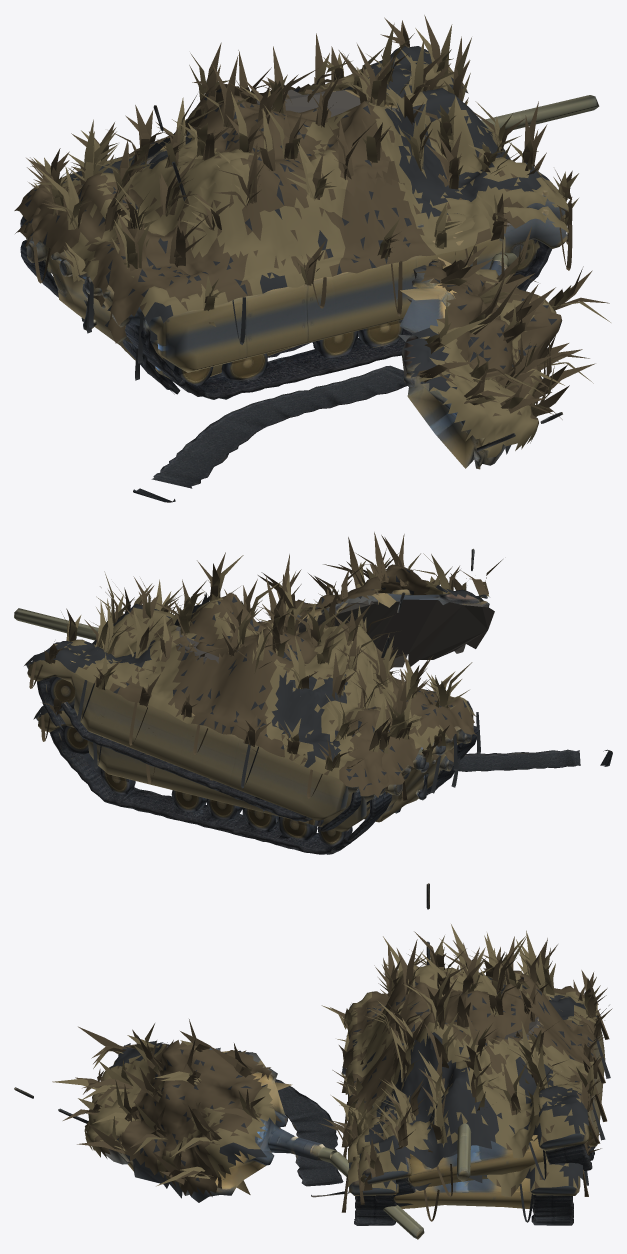
File: mbt_lavi_camo.glb
3 renders of one model, top to bottom at view 1: azimuth 30°, elevation 25°; view 2: azimuth 150°, elevation 25°; view 3: azimuth 270°, elevation 25°, orthographic. The views are drawn at different scales.
Parts seen in each view (by area): view 1: hull_hull, WRECK_hull_hull, WRECK_turret_hull, turret_hull, WRECK_hull_rubber, hull_rubber, turret_metal; view 2: WRECK_hull_hull, hull_hull, WRECK_turret_hull, turret_hull, hull_rubber, WRECK_hull_rubber, turret_metal; view 3: WRECK_hull_hull, WRECK_turret_hull, hull_hull, turret_hull, WRECK_hull_rubber, WRECK_turret_metal, turret_metal, hull_rubber.
Part boxes in pixels (x1,y1,x2,y2): hull_hull: [15, 64, 578, 383]; WRECK_hull_hull: [14, 15, 578, 394]; WRECK_turret_hull: [398, 226, 610, 469]; turret_hull: [108, 44, 399, 204]; WRECK_hull_rubber: [133, 342, 407, 502]; hull_rubber: [50, 290, 412, 399]; turret_metal: [153, 95, 599, 201]; WRECK_hull_hull: [24, 571, 469, 831]; hull_hull: [33, 593, 480, 841]; WRECK_turret_hull: [258, 532, 502, 667]; turret_hull: [151, 552, 382, 701]; hull_rubber: [77, 765, 370, 854]; WRECK_hull_rubber: [61, 701, 612, 821]; turret_metal: [14, 592, 405, 657]; WRECK_hull_hull: [327, 930, 612, 1206]; WRECK_turret_hull: [52, 1019, 292, 1202]; hull_hull: [319, 933, 605, 1222]; turret_hull: [378, 924, 542, 1064]; WRECK_hull_rubber: [275, 1079, 595, 1197]; WRECK_turret_metal: [14, 1087, 424, 1239]; turret_metal: [426, 883, 471, 1181]; hull_rubber: [354, 1196, 573, 1225].
Bounding box in the file's own units: 8.58 × 3.71 × 8.84.
1 material, 1 textured.
